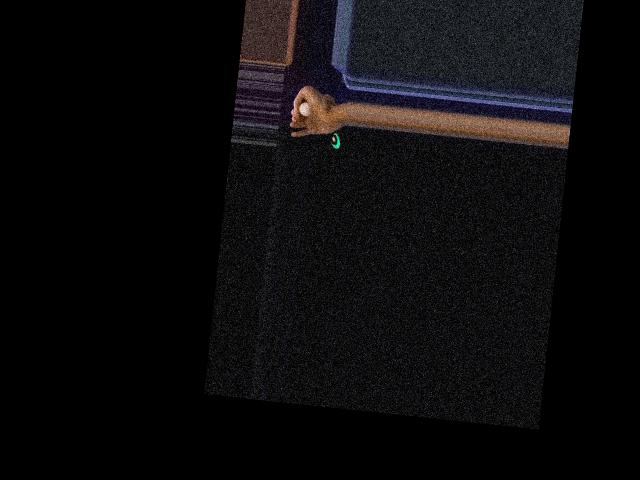egg: (298, 101, 311, 116)
